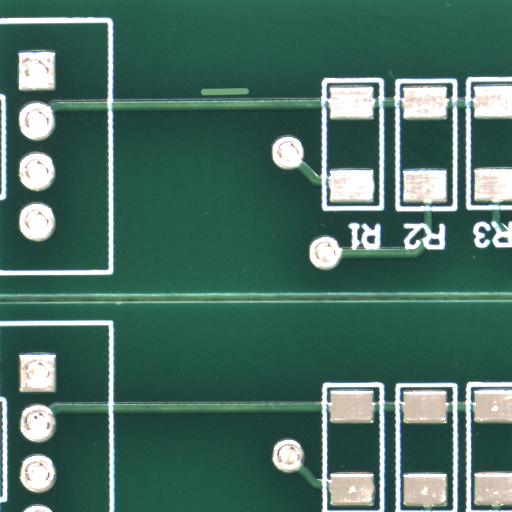Spurious_copper: (223, 91, 277, 103)
